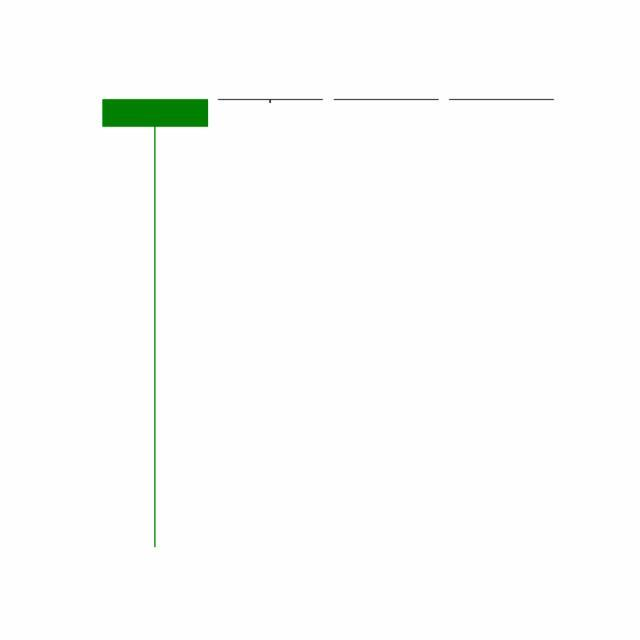Hanging Man: (445, 99, 560, 101)
